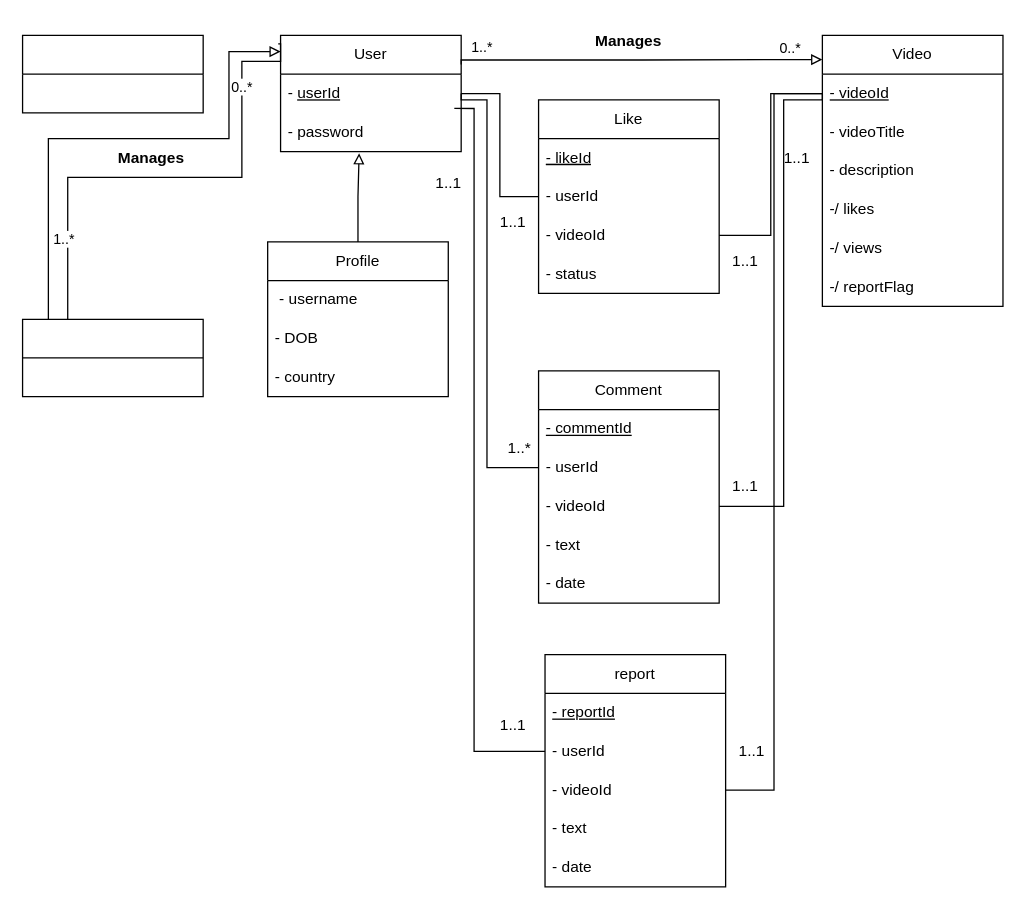
The diagram is 1026 pixels wide and 909 high, and some of its shapes have lost their labels. The shapes that lost their labels are listed below. From the top down, each one's centre as x and y in pixels, then its label:
At (112,73): "guestUser".
At (112,357): "Admin".
